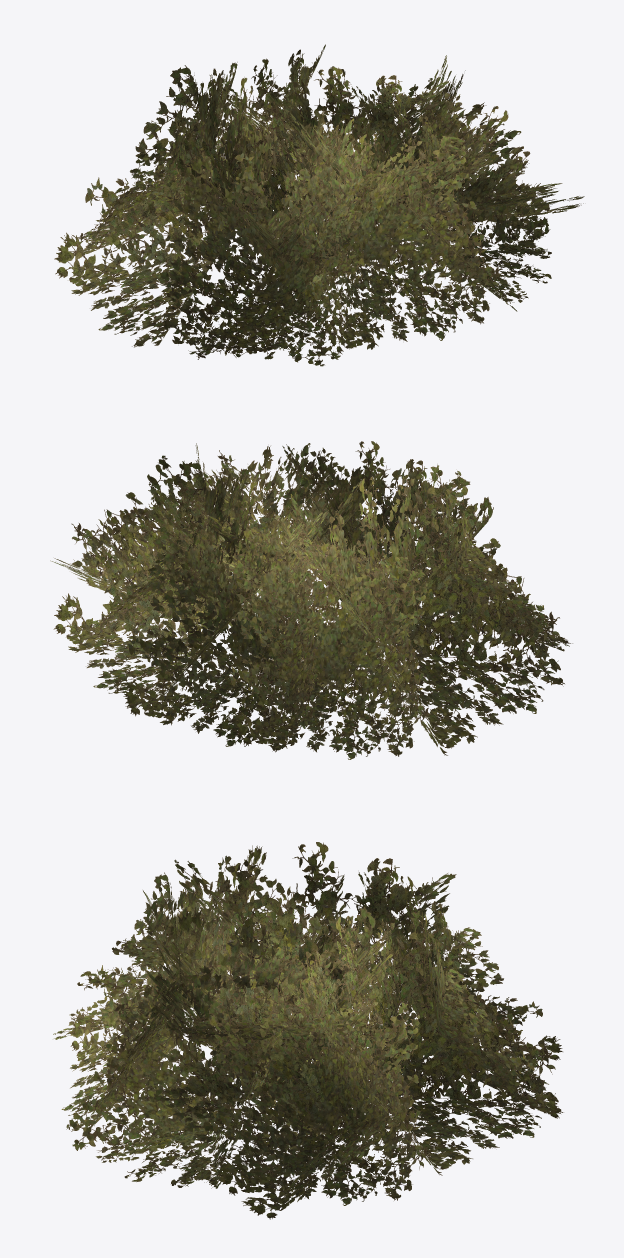
File: shrb_giantlickbush_ltgreen_a1_l0.fbx
3 renders of one model, top to bottom at view 1: azimuth 30°, elevation 25°; view 2: azimuth 150°, elevation 25°; view 3: azimuth 270°, elevation 25°, orthographic. The views are drawn at different scales.
Visible parts, largest first — view 1: mesh_node; view 2: mesh_node; view 3: mesh_node.
Boxes of the visible parts, <box> form: mesh_node: <box>54,44,584,366</box>; mesh_node: <box>50,441,572,759</box>; mesh_node: <box>53,842,563,1219</box>.
Size of the model in its own units: 3.89 by 1.84 by 3.48.
